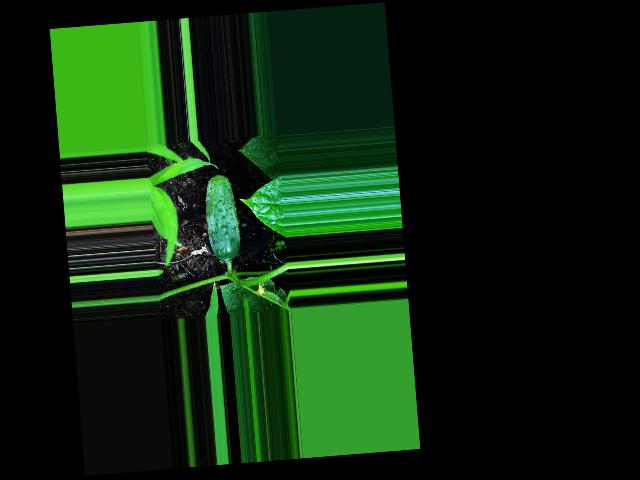cucumber: (202, 172, 241, 263)
